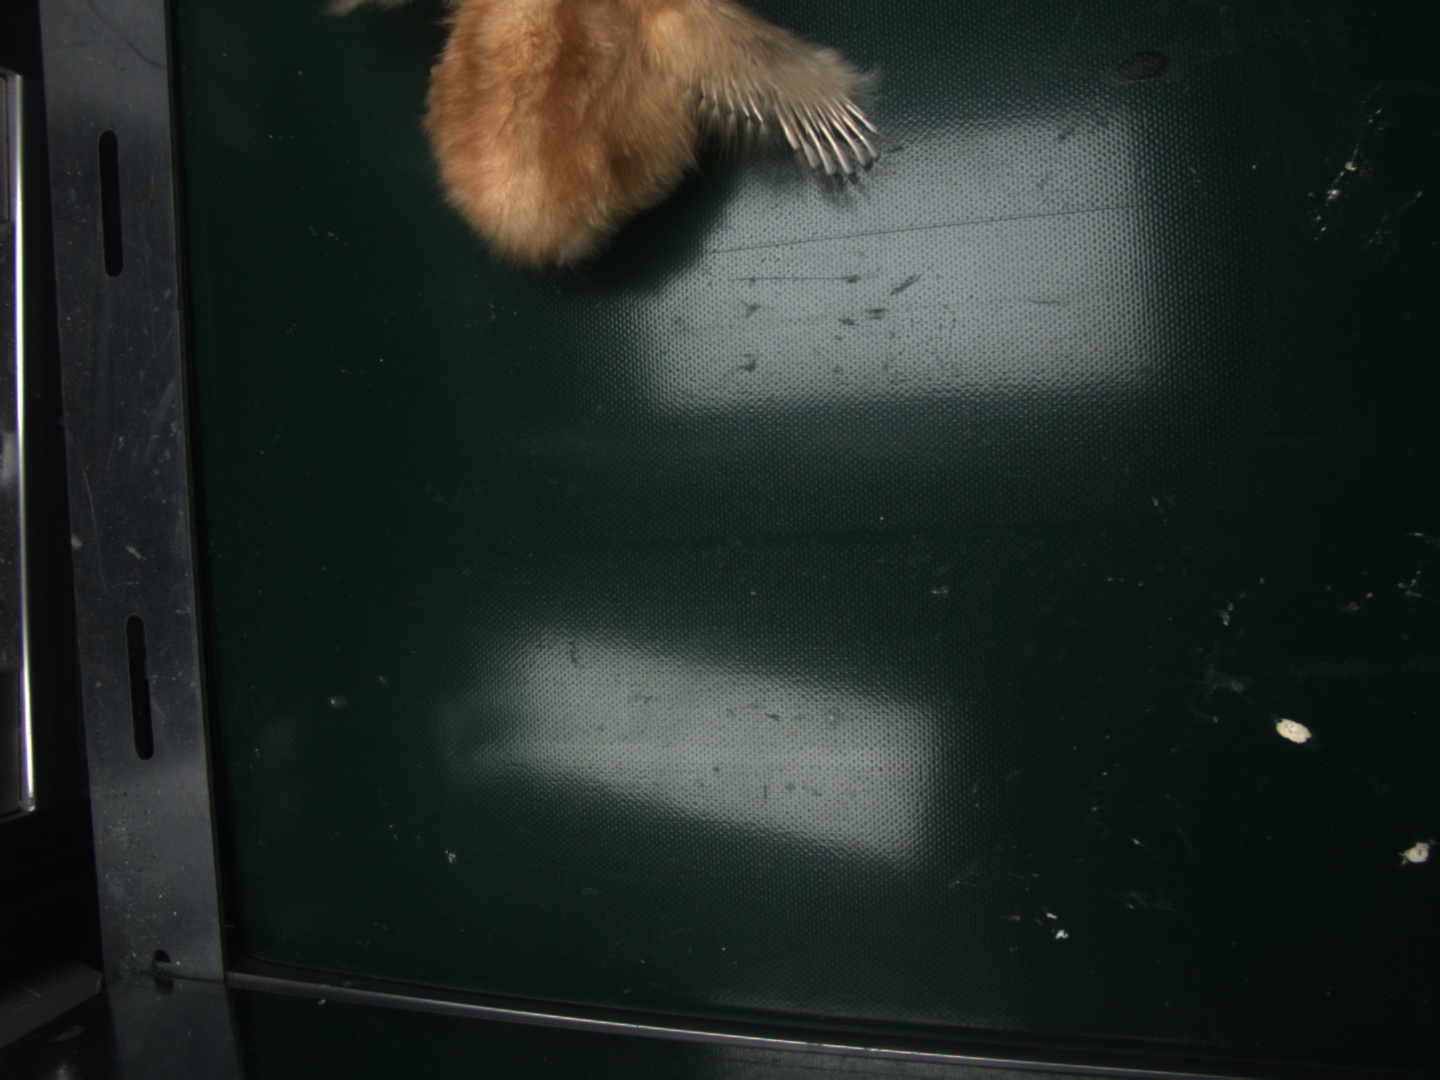female: (771, 90, 879, 175)
